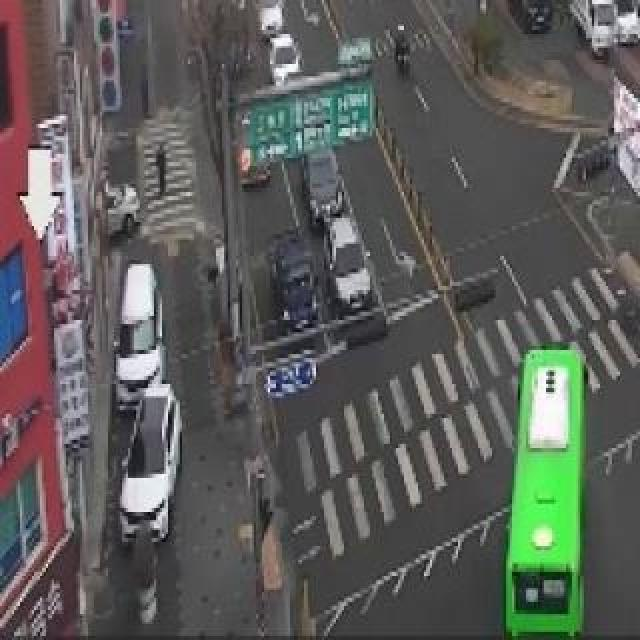bus: (507, 332, 585, 640)
car: (118, 374, 184, 546), (112, 266, 166, 416), (320, 216, 374, 316), (298, 145, 344, 225), (265, 35, 305, 87), (602, 0, 640, 46), (248, 0, 284, 38), (498, 0, 548, 26), (632, 0, 640, 34)
motorbike: (387, 16, 417, 80)
truck: (261, 230, 317, 336), (564, 0, 616, 54)
